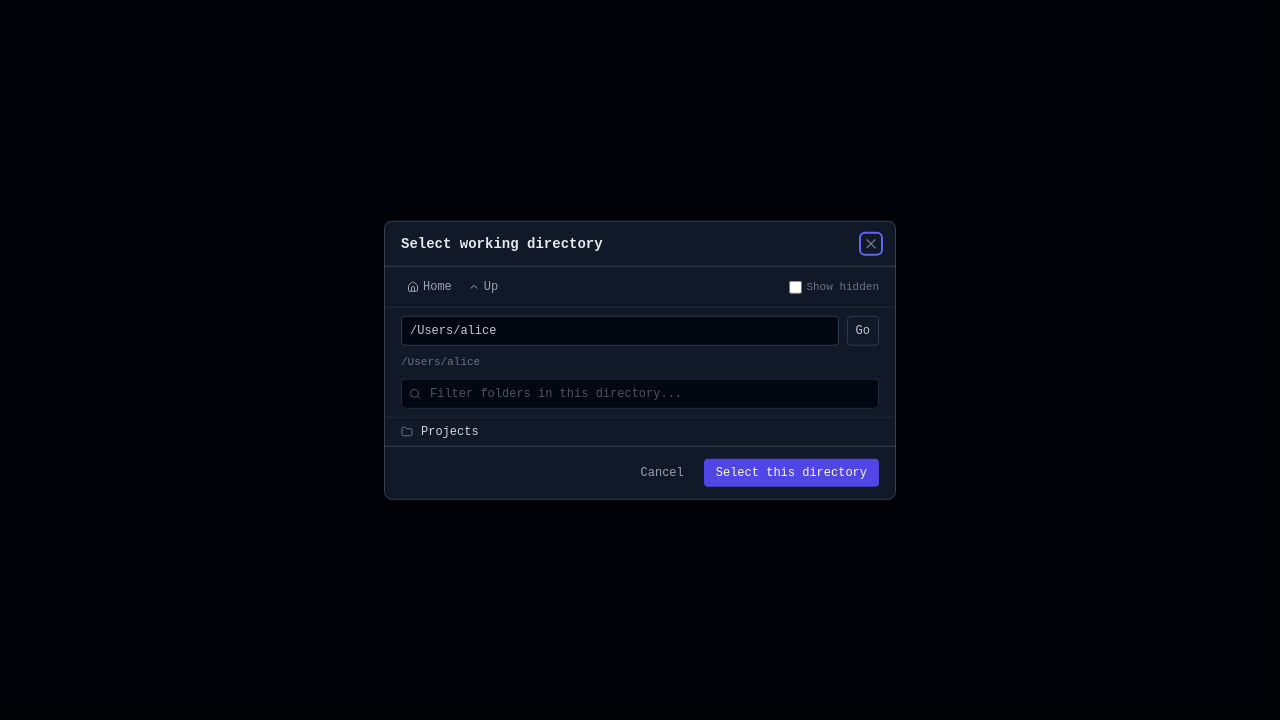
Scenario: FolderPicker — hidden directories › reveals hidden directories when the Show hidden toggle is enabled
This screenshot has width=1280, height=720.
Expected: the text "Projects" is shown, top-left (421, 423), bottom-right (479, 439)
Click the checkbox labelled "Show hidden": point(796, 287) top-left (789, 280), bottom-right (802, 293)
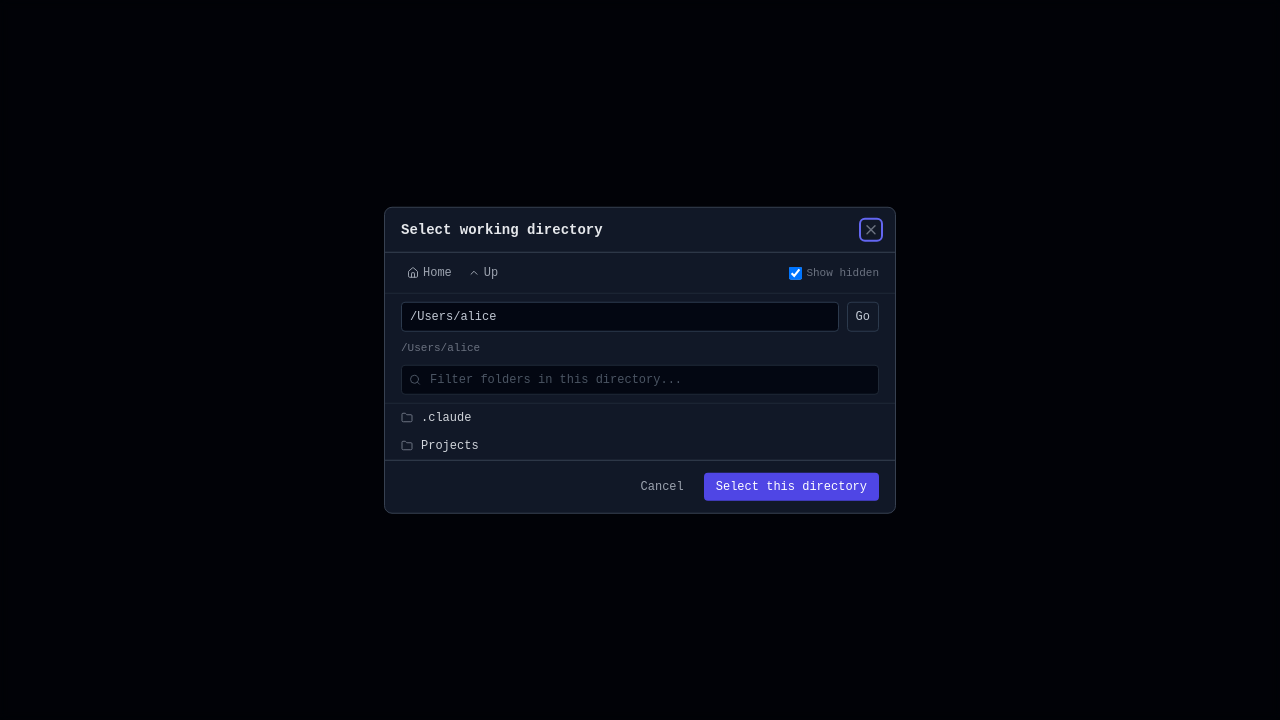
Result: the text ".claude" is shown at top-left (421, 409), bottom-right (471, 425)
